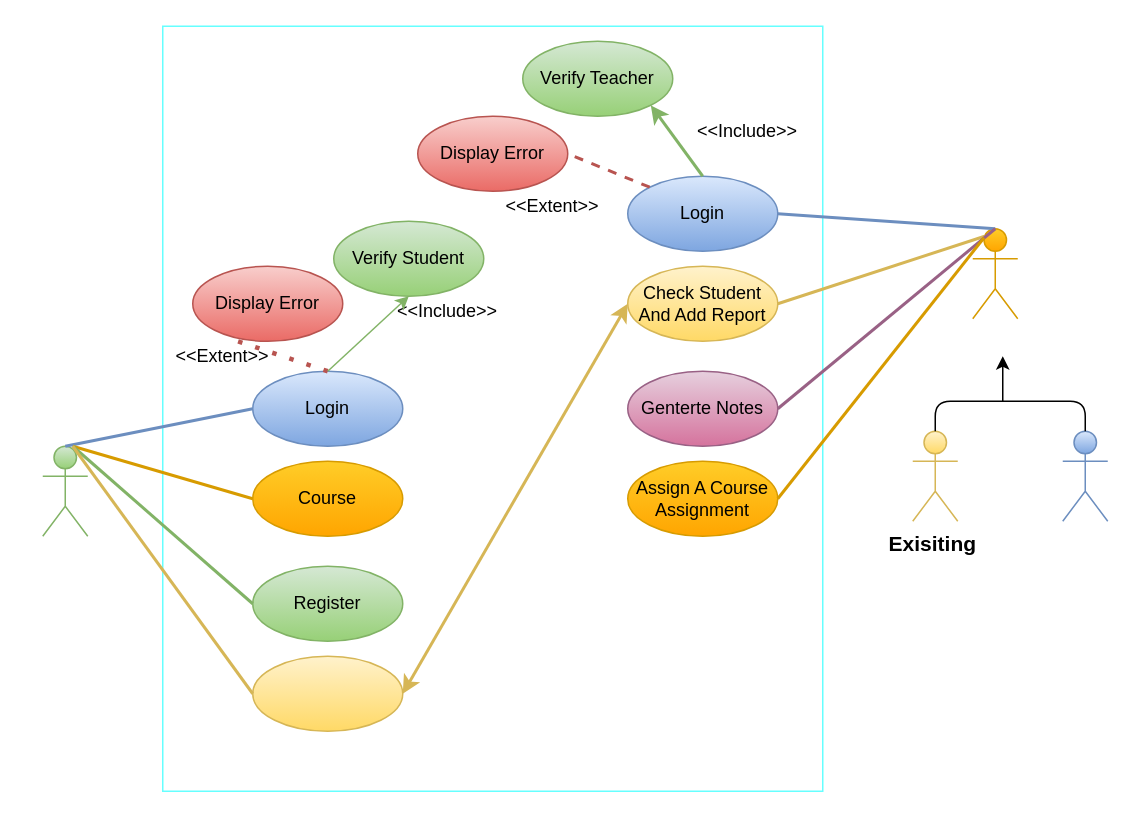
This 1134x818 diagram has some shape labels left out. The centre of each missing label's shape, as x and y in pixels:
New: the point at 1084,475
See Daily Report: the point at 327,693
Student: the point at 64,490
Teacher: the point at 994,273
